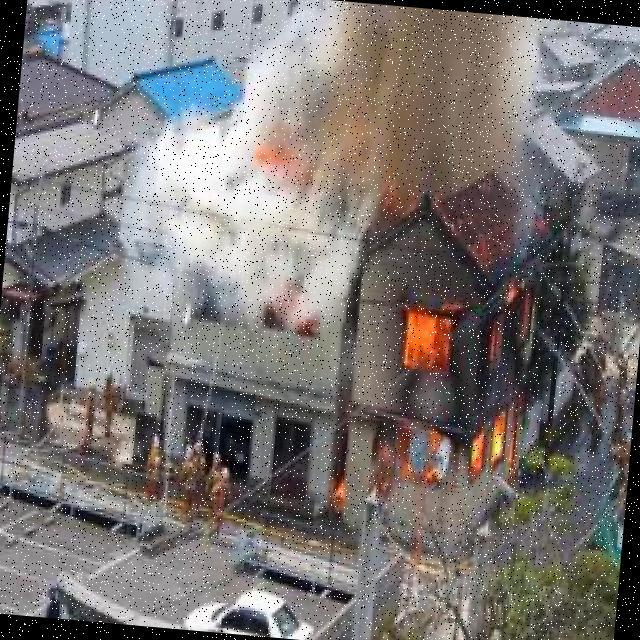Fire: (306, 248, 553, 532)
